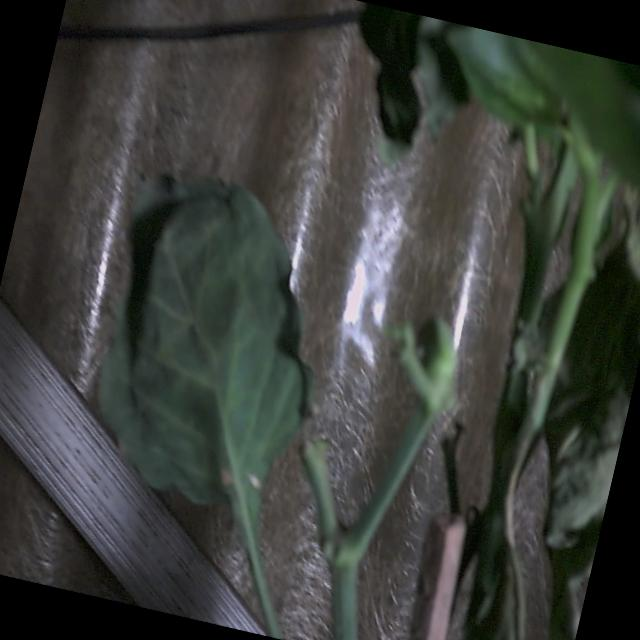Leaf: (64, 158, 358, 526)
